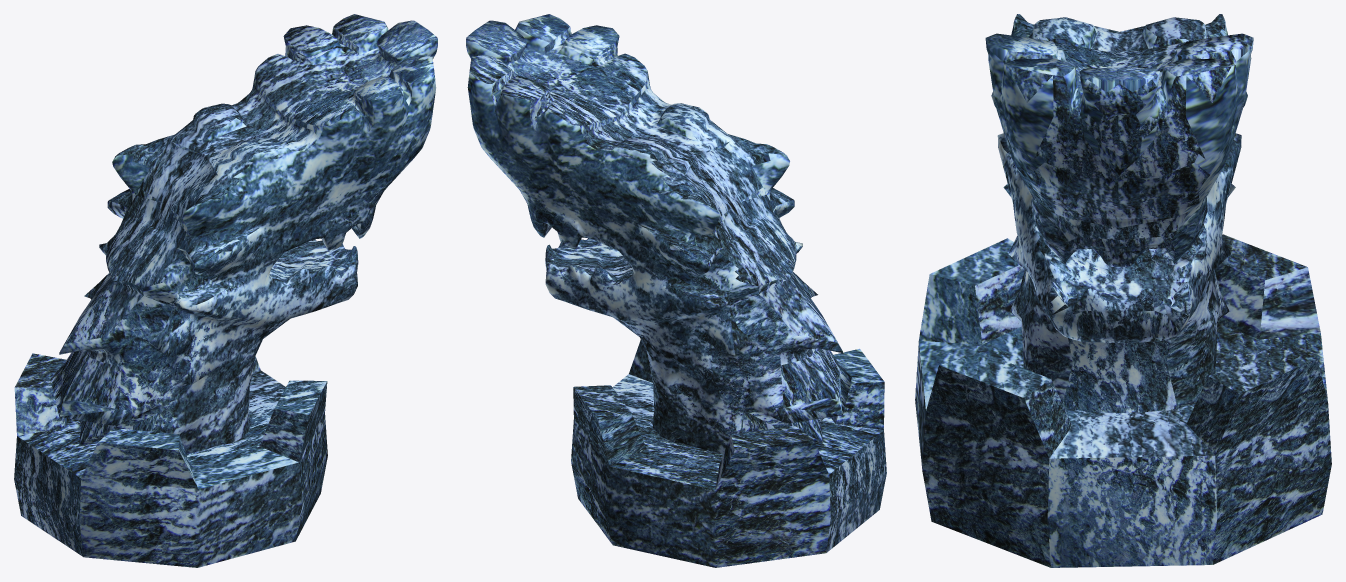
Rendered from Rook.FBX.
3 renders of one model, left to right at view 1: azimuth 30°, elevation 25°; view 2: azimuth 150°, elevation 25°; view 3: azimuth 270°, elevation 25°, orthographic. The views are drawn at different scales.
Visible parts, largest first — view 1: Rook; view 2: Rook; view 3: Rook.
Boxes of the visible parts, box(x1,y1,x2,y2) form: Rook: box(14, 14, 437, 567); Rook: box(466, 14, 886, 567); Rook: box(915, 14, 1331, 567).
Bounding box in the file's own units: 2307 × 2389 × 1544.
1 material, 1 textured.
